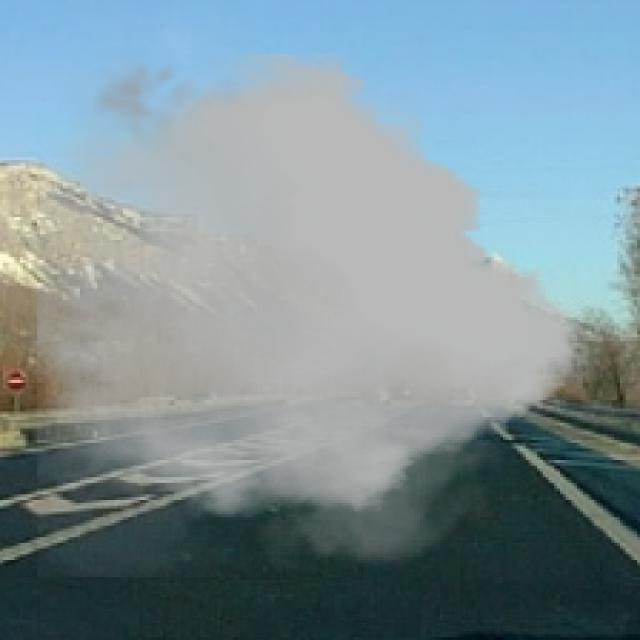smoke: (37, 46, 577, 577)
